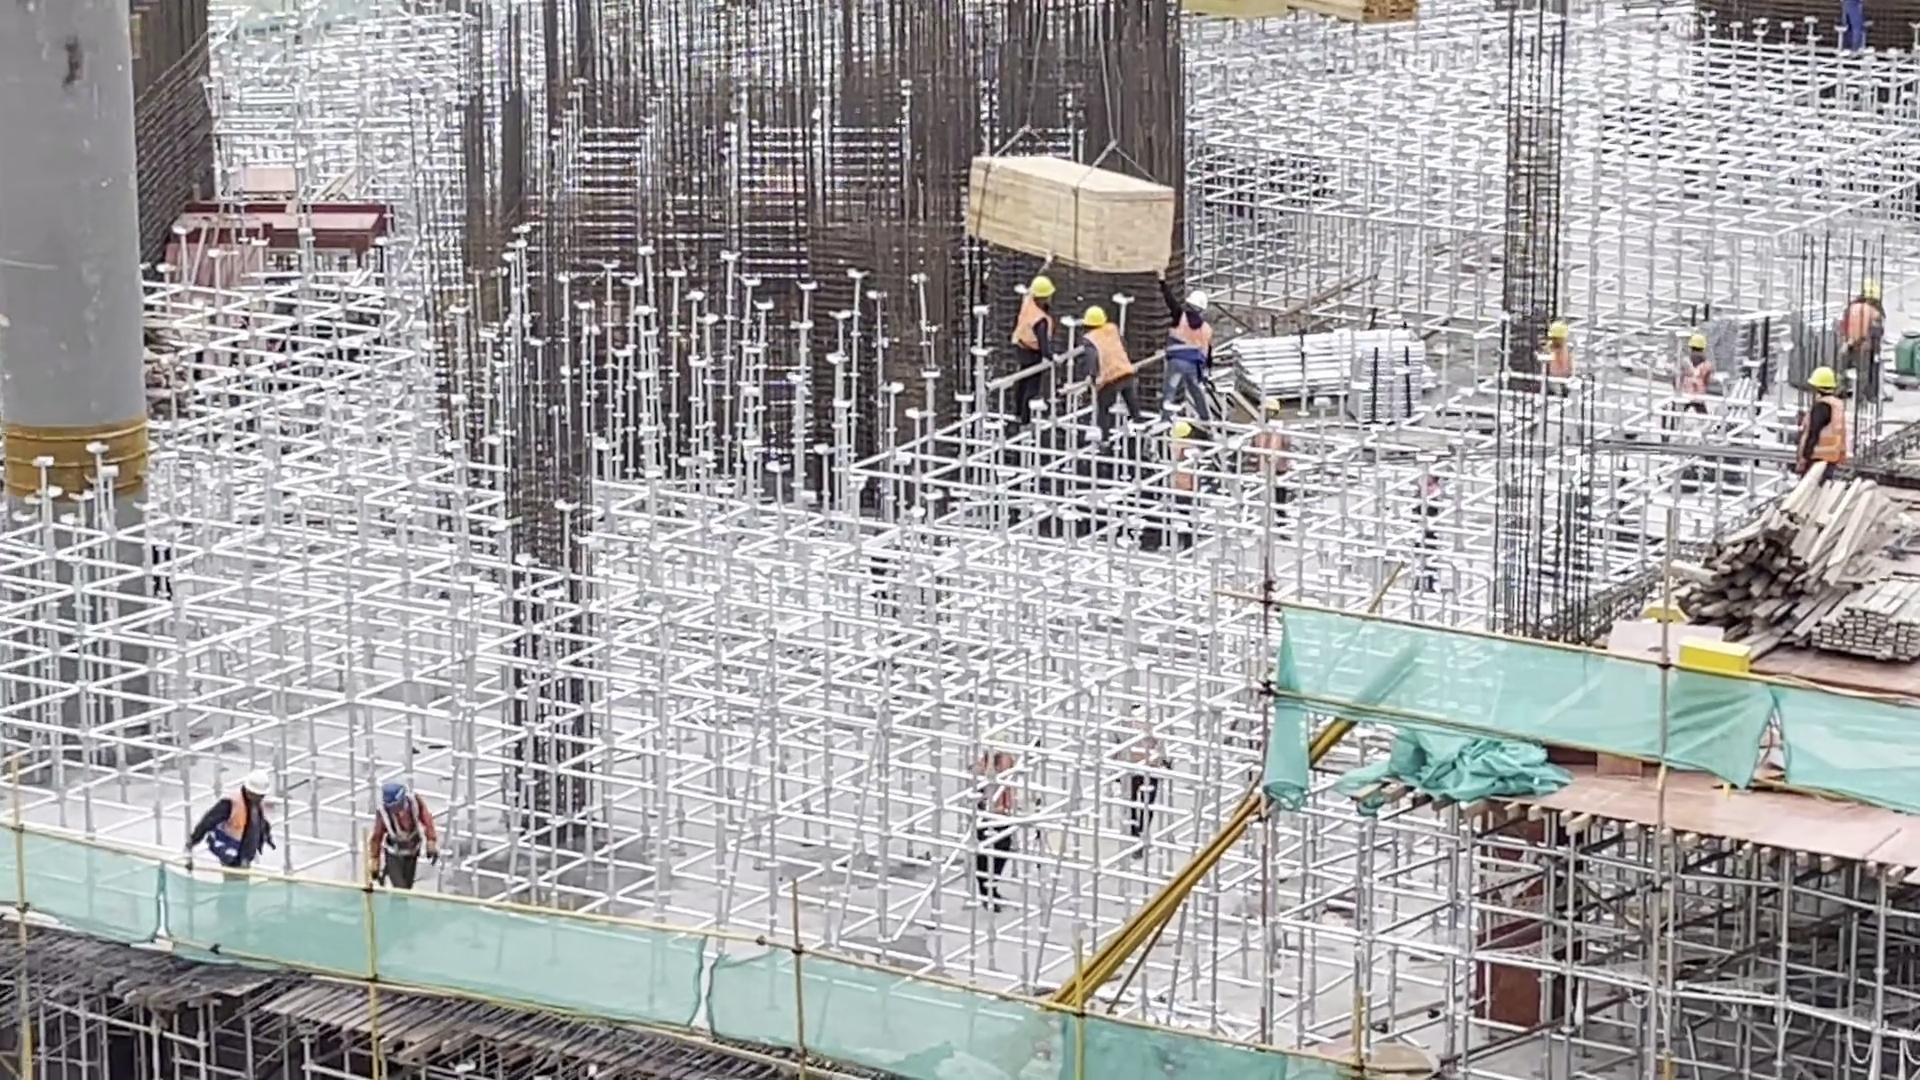board: (965, 153, 1178, 277)
helmet: (243, 765, 270, 796), (1806, 367, 1839, 392), (381, 780, 408, 808), (1185, 288, 1211, 312), (1083, 304, 1106, 330), (1030, 277, 1055, 297)
person: (1157, 263, 1224, 428), (971, 734, 1026, 906), (191, 766, 269, 881), (1080, 299, 1140, 437), (362, 779, 435, 886), (1786, 359, 1853, 468), (1002, 277, 1049, 425), (1662, 326, 1718, 437), (1126, 714, 1168, 846), (1251, 397, 1291, 526), (1157, 423, 1195, 548), (1828, 288, 1878, 376), (1544, 316, 1573, 388)
vest: (208, 795, 264, 867), (1800, 395, 1851, 465), (1085, 321, 1133, 386), (379, 800, 430, 861), (1012, 298, 1057, 362), (1168, 312, 1212, 369)
wood: (1678, 466, 1906, 650), (1813, 573, 1920, 657)
